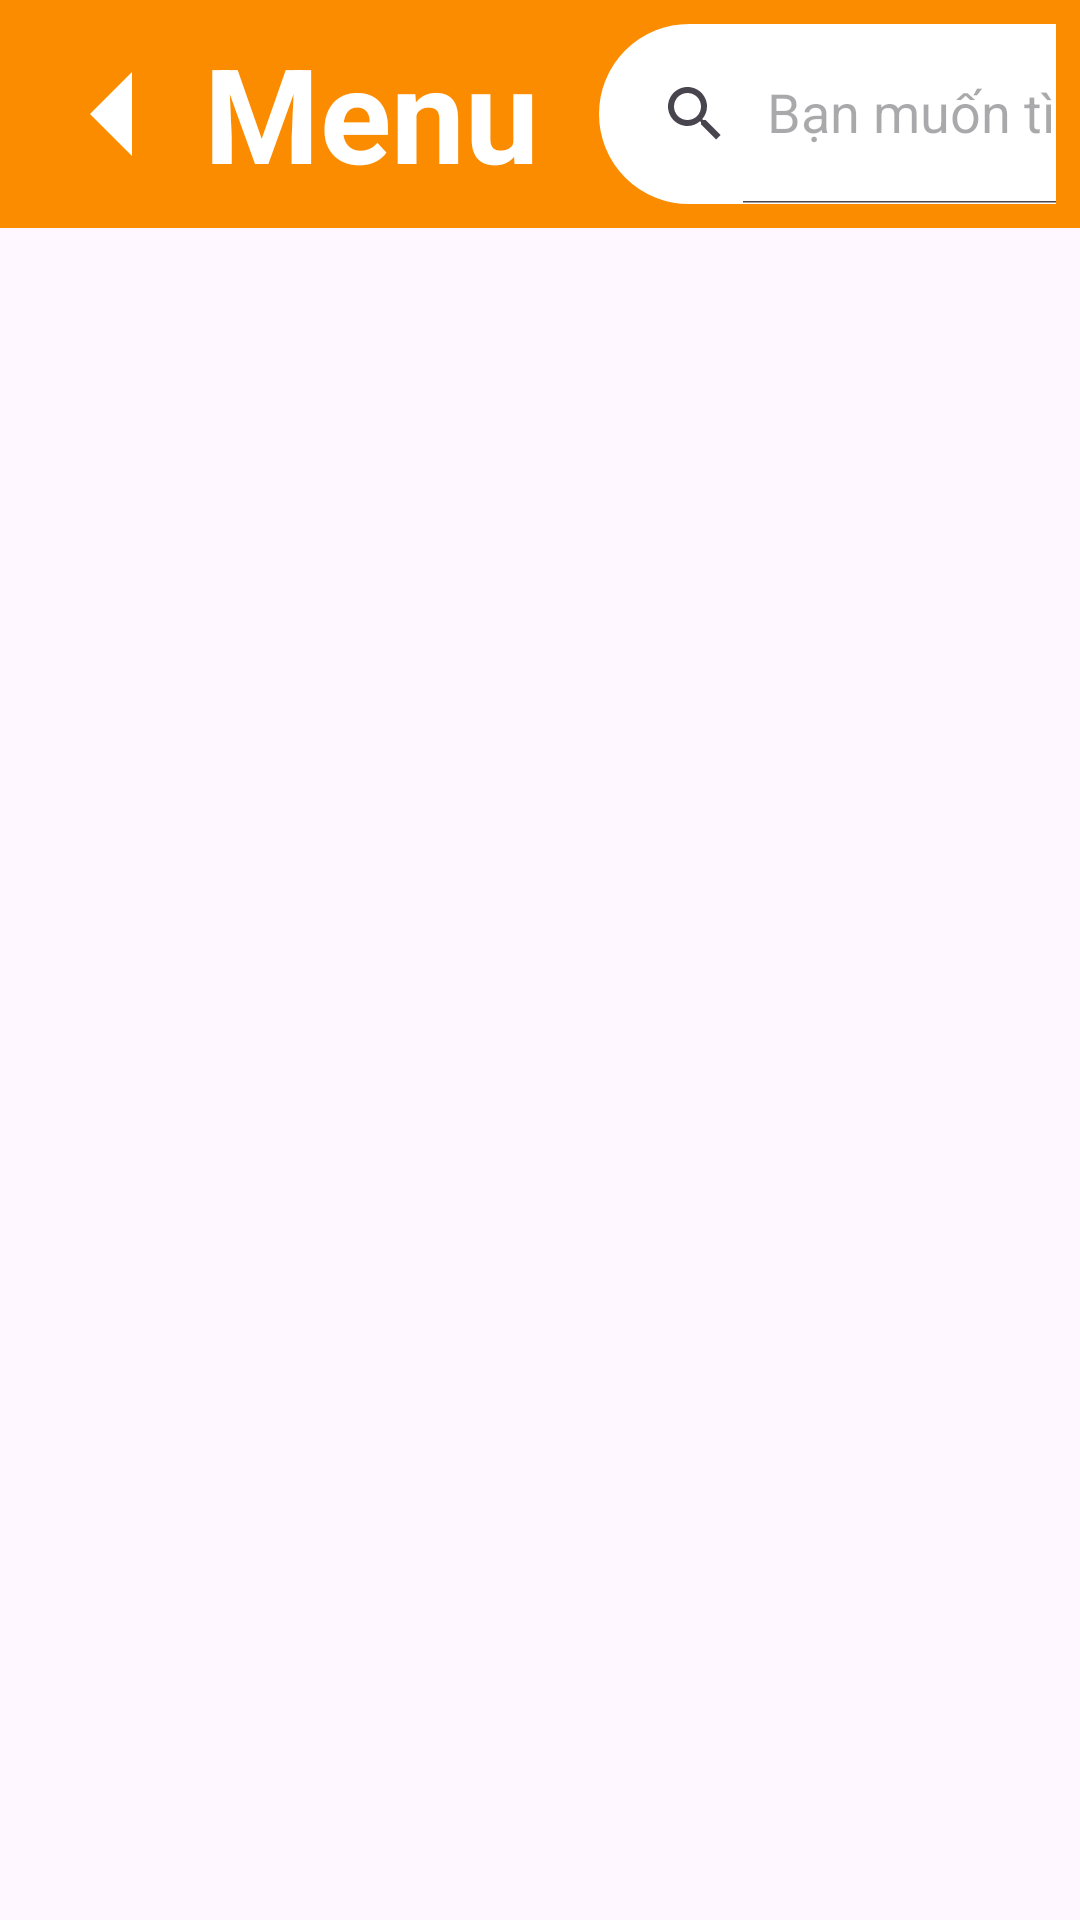

Icons on this 1080×1920 Android screen, each with its box as (x1, y1, x2, y2):
back arrow: (90, 72, 132, 156)
